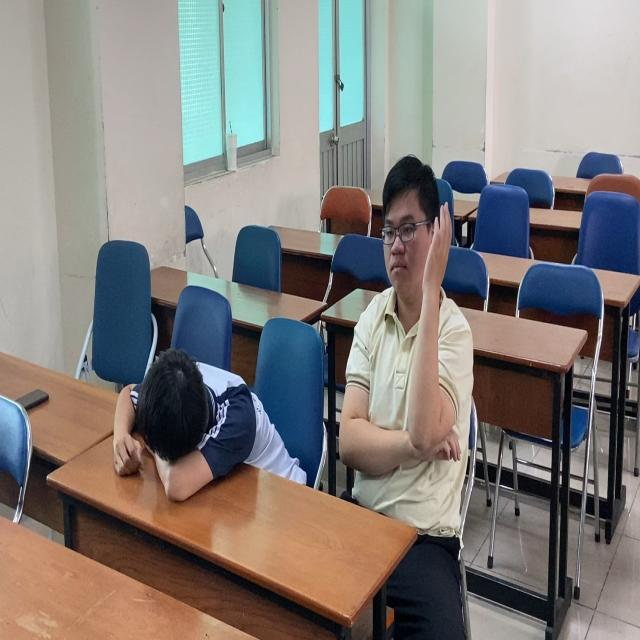raise_hand: (335, 150, 477, 494)
sleep: (107, 338, 299, 509)
